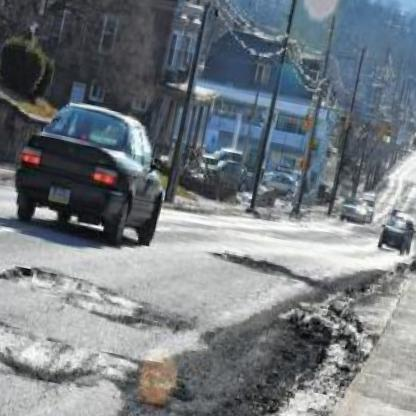pothole: (0, 256, 153, 331), (0, 283, 106, 389), (207, 246, 300, 280)
